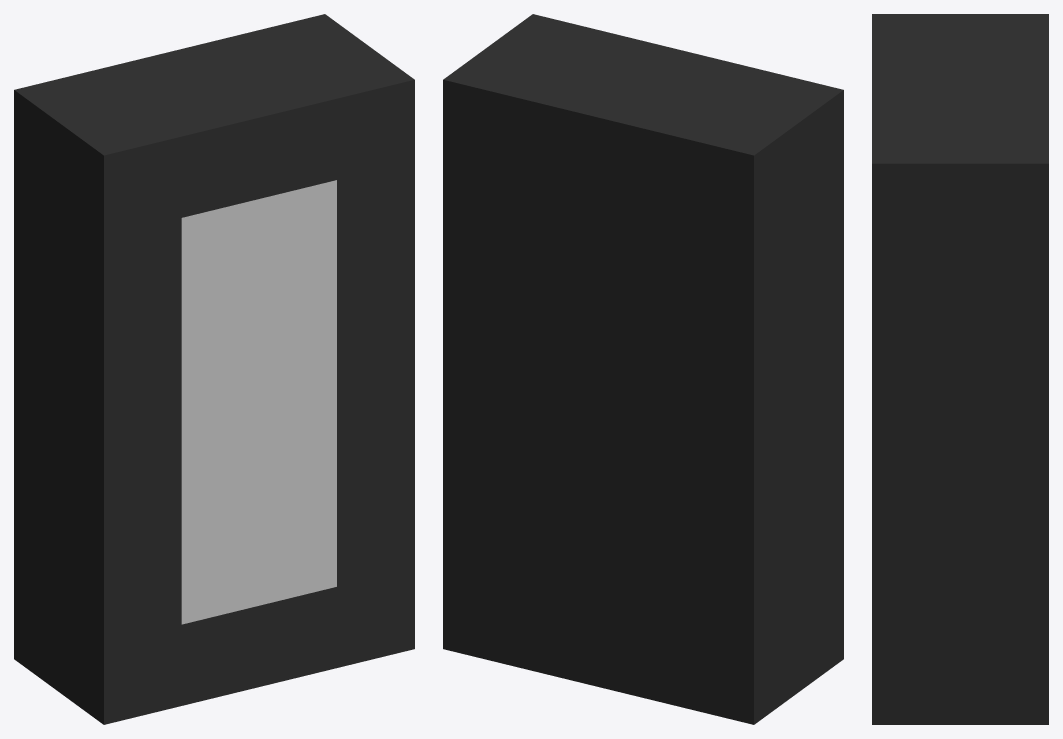
Rendered from Decor-0.obj.
3 views of the same model, side by side, from view 1: azimuth 30°, elevation 25°; view 2: azimuth 150°, elevation 25°; view 3: azimuth 270°, elevation 25° (orthographic).
Bounding box in the file's own units: 0.4 × 0.7 × 0.2.
Materials: 1 (1 with a texture image).
